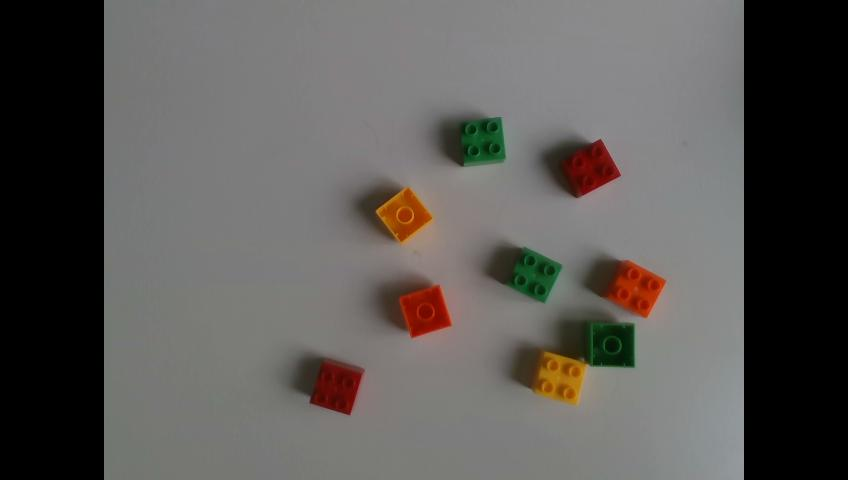2x2_green: (508, 246, 559, 299), (588, 320, 634, 366), (463, 117, 506, 164)
2x2_orange: (604, 258, 668, 317), (396, 284, 453, 339)
2x2_red: (559, 137, 621, 195), (311, 360, 363, 413)
2x2_yellow: (375, 184, 437, 246), (534, 350, 587, 402)
